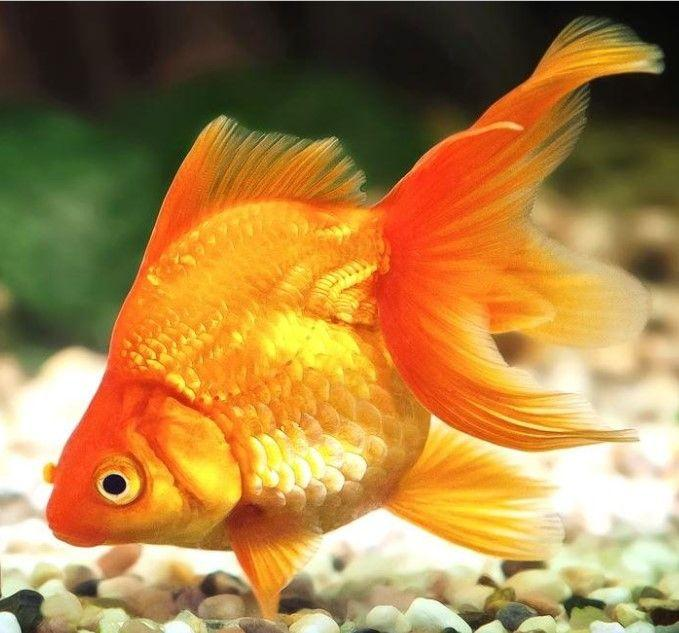Gold Fish: (46, 13, 660, 615)
